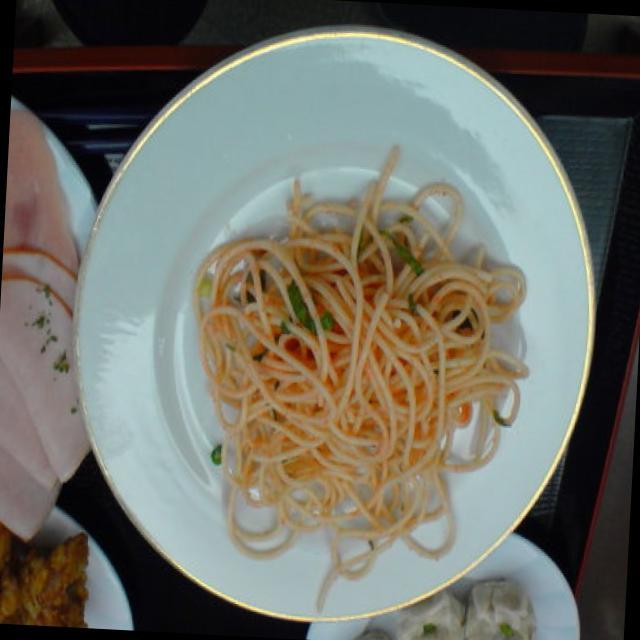Pasta: (167, 201, 530, 569)
